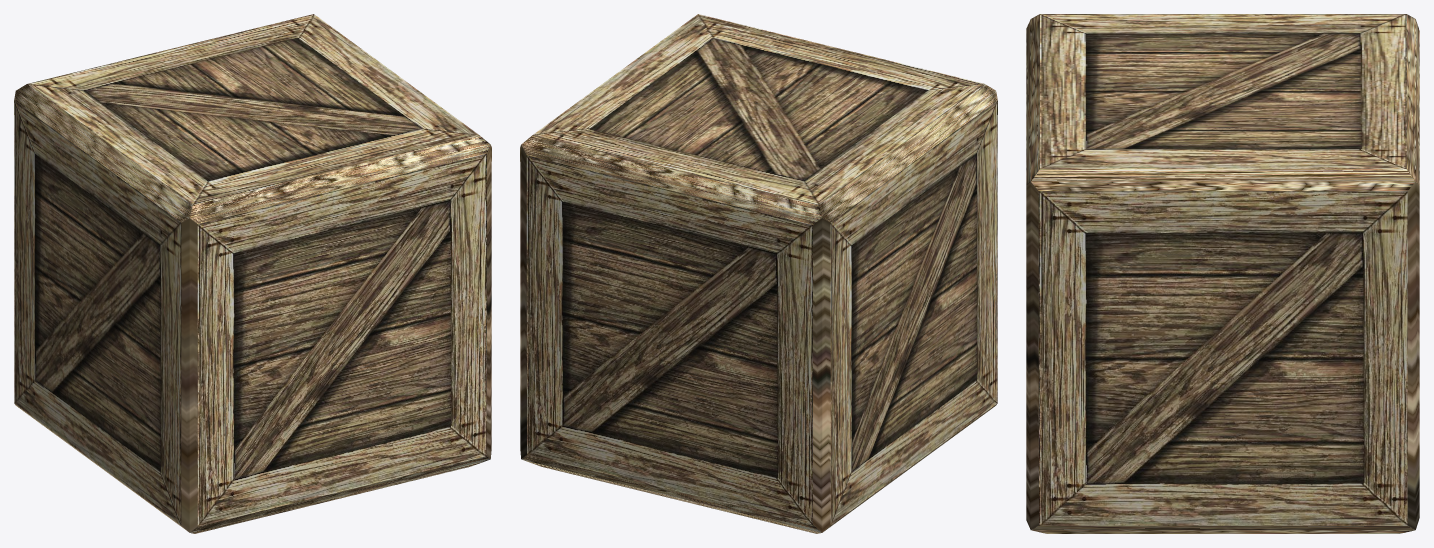
3 renders of one model, left to right at view 1: azimuth 30°, elevation 25°; view 2: azimuth 150°, elevation 25°; view 3: azimuth 270°, elevation 25°, orthographic. The views are drawn at different scales.
Visible parts, largest first — view 1: box; view 2: box; view 3: box.
Part boxes in pixels (x1,y1,x2,y2): box: (14,14,491,533); box: (520,14,997,533); box: (1026,14,1419,533).
Size of the model in its own units: 2.09 by 2.14 by 2.07.
1 material, 1 textured.
